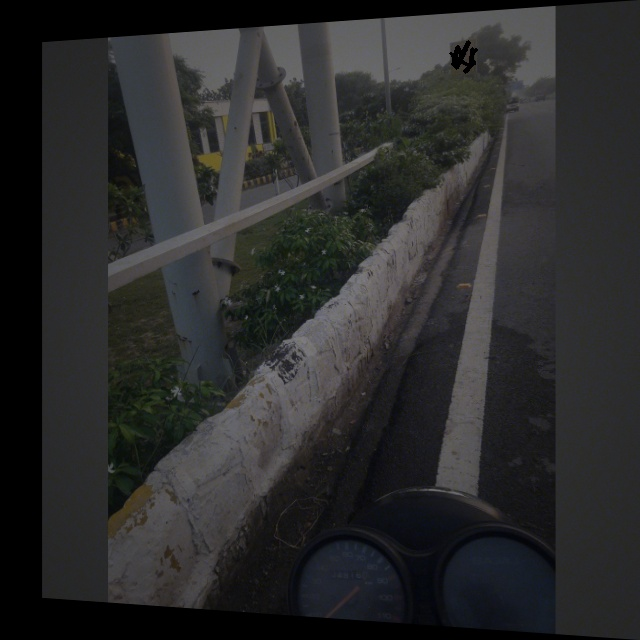U_Turn_Prohibited: (451, 40, 480, 74)
